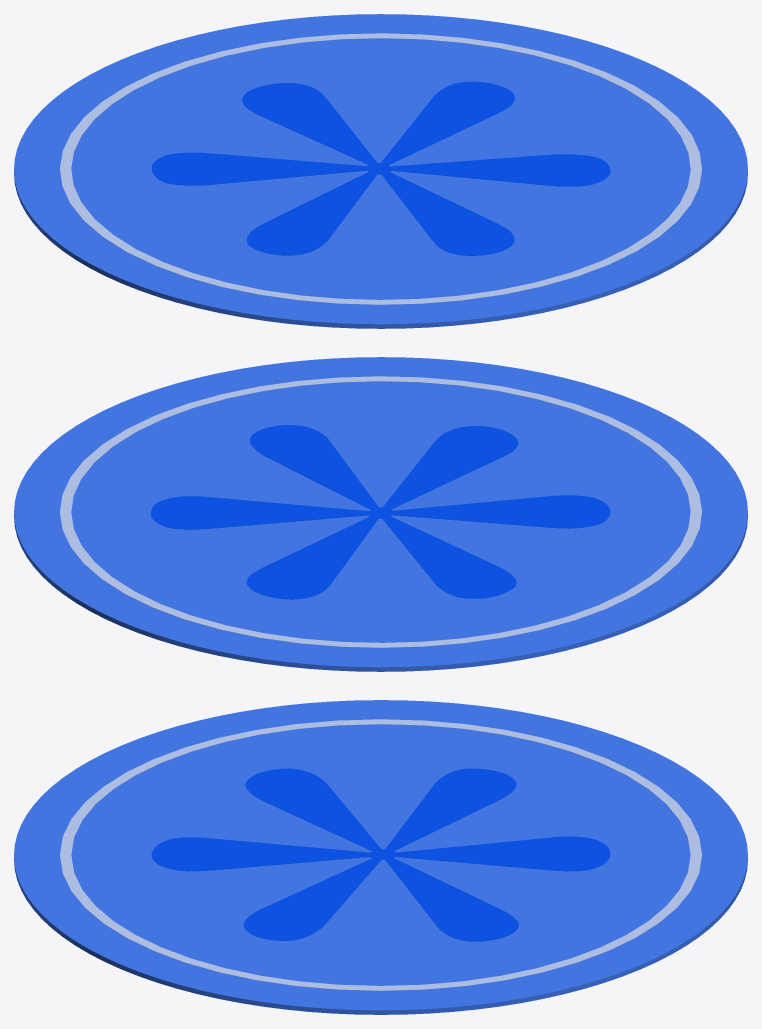
Rendered from stageFloor.fbx.
The picture shows the model from 3 angles, top to bottom: view 1: azimuth 30°, elevation 25°; view 2: azimuth 150°, elevation 25°; view 3: azimuth 270°, elevation 25°; orthographic projection.
Visible parts, largest first — view 1: path499, path397, path1107; view 2: path499, path397, path1107; view 3: path499, path397, path1107.
Part boxes in pixels (bbox=[...]): path499: bbox=[14, 14, 747, 328]; path397: bbox=[151, 81, 610, 255]; path1107: bbox=[60, 33, 701, 304]; path499: bbox=[14, 357, 747, 671]; path397: bbox=[150, 425, 610, 599]; path1107: bbox=[60, 376, 701, 647]; path499: bbox=[14, 700, 747, 1014]; path397: bbox=[151, 768, 610, 941]; path1107: bbox=[60, 719, 701, 990].
Size of the model in its own units: 809 by 6 by 809.
